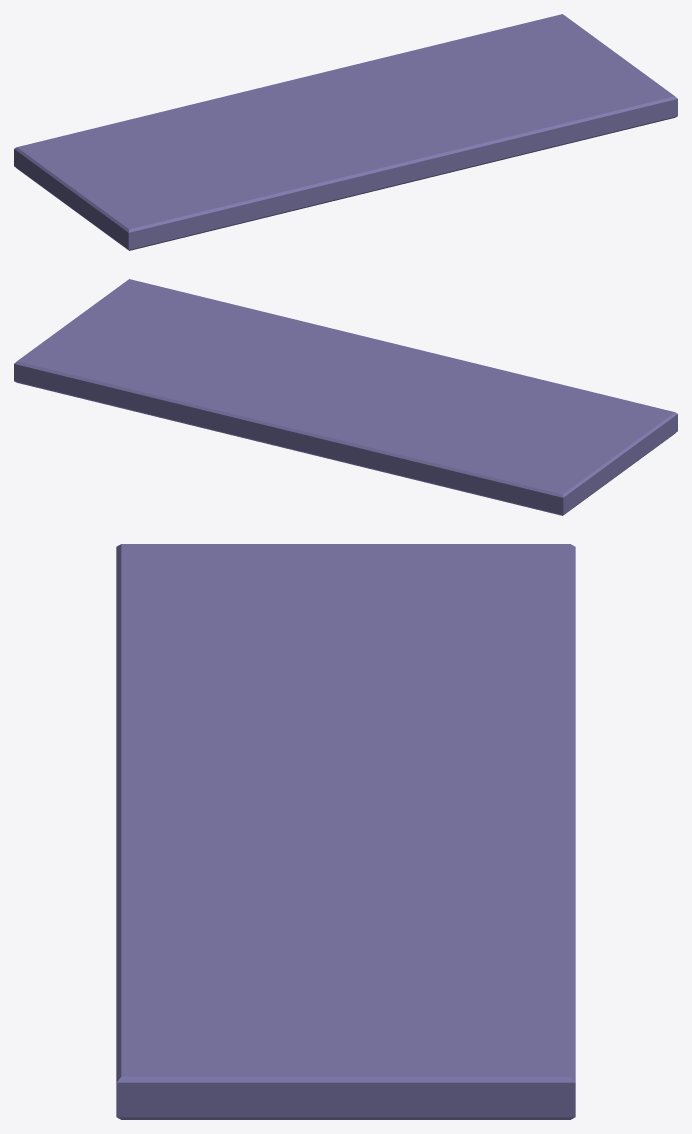
Rendered from Repisa01.fbx.
3 renders of one model, top to bottom at view 1: azimuth 30°, elevation 25°; view 2: azimuth 150°, elevation 25°; view 3: azimuth 270°, elevation 25°, orthographic. The views are drawn at different scales.
Parts seen in each view (by area): view 1: repisa01; view 2: repisa01; view 3: repisa01.
Boxes of the visible parts, x1,y1,x2,y2 form: repisa01: (14, 14, 677, 250); repisa01: (14, 279, 677, 515); repisa01: (116, 544, 575, 1119).
Bounding box in the file's own units: 1.01 × 0.0377 × 0.3637.
